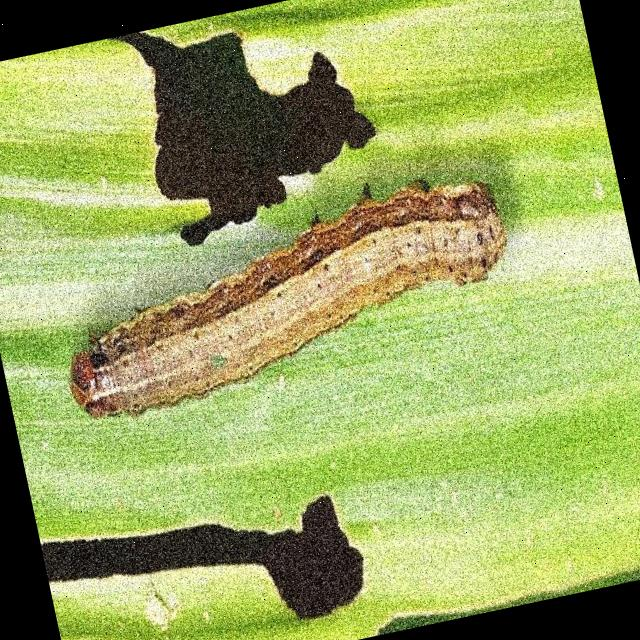worm: (40, 158, 529, 433)
